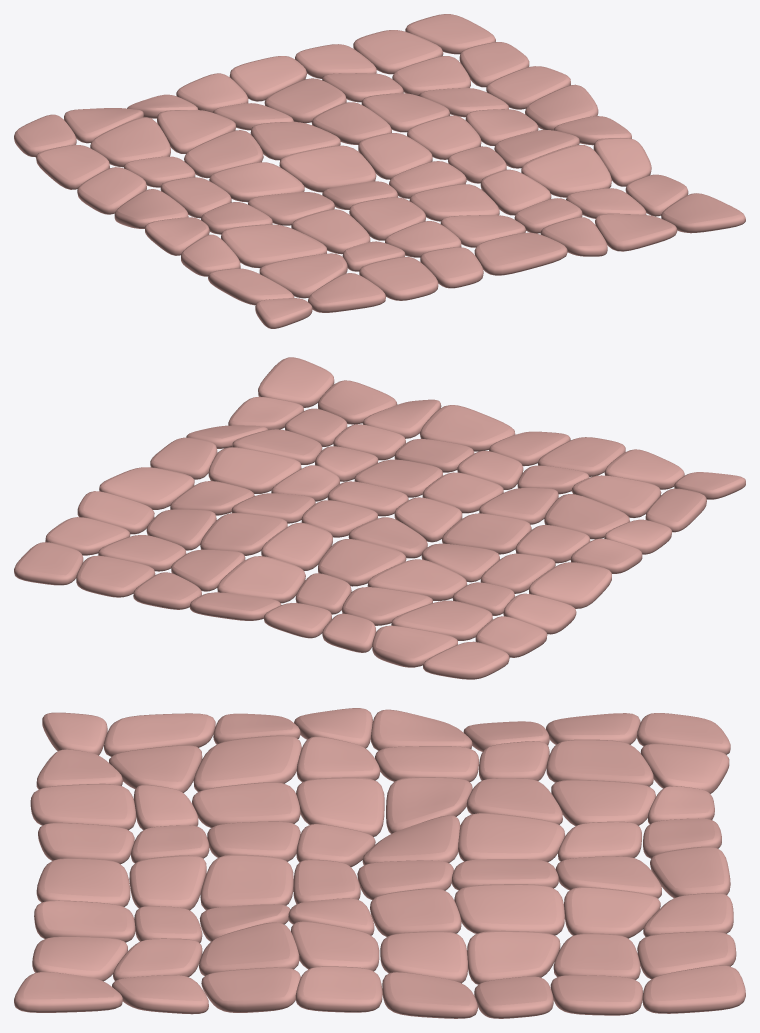
The model's file is ENV_StoneFloor01_Placeholder02.fbx.
3 renders of one model, top to bottom at view 1: azimuth 30°, elevation 25°; view 2: azimuth 150°, elevation 25°; view 3: azimuth 270°, elevation 25°, orthographic. The views are drawn at different scales.
Parts seen in each view (by area): view 1: Plane.002; view 2: Plane.002; view 3: Plane.002.
Boxes of the visible parts, box(x1,y1,x2,y2) form: Plane.002: box(14, 14, 745, 328); Plane.002: box(14, 357, 745, 679); Plane.002: box(14, 708, 745, 1018).
Bounding box in the file's own units: 498 × 483 × 23.61.
